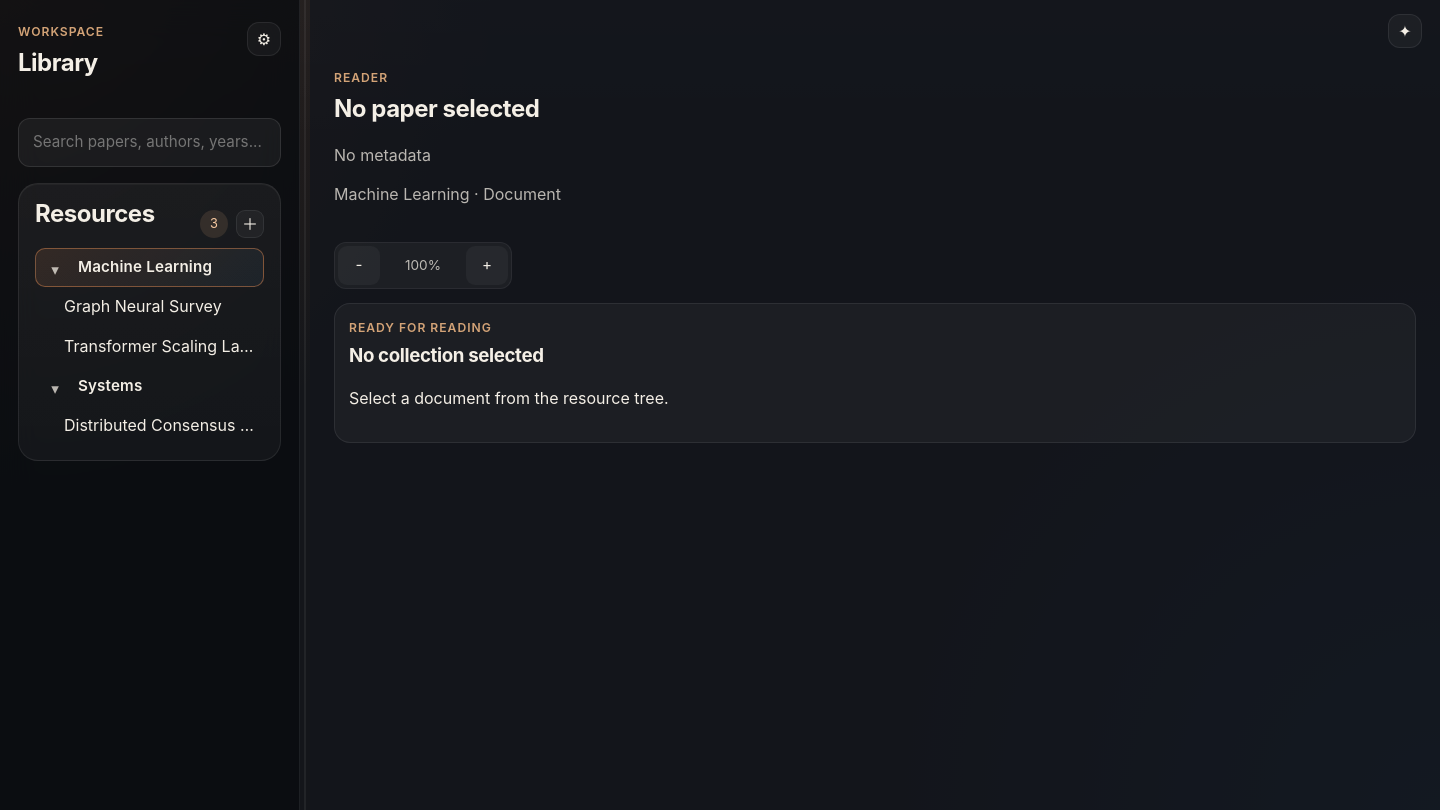
Test: App reading workspace › creates and renames collections inline in the tree from root actions and the context menu
Click the button named "New folder". click: point(250, 224)
box: [236,210,264,238]
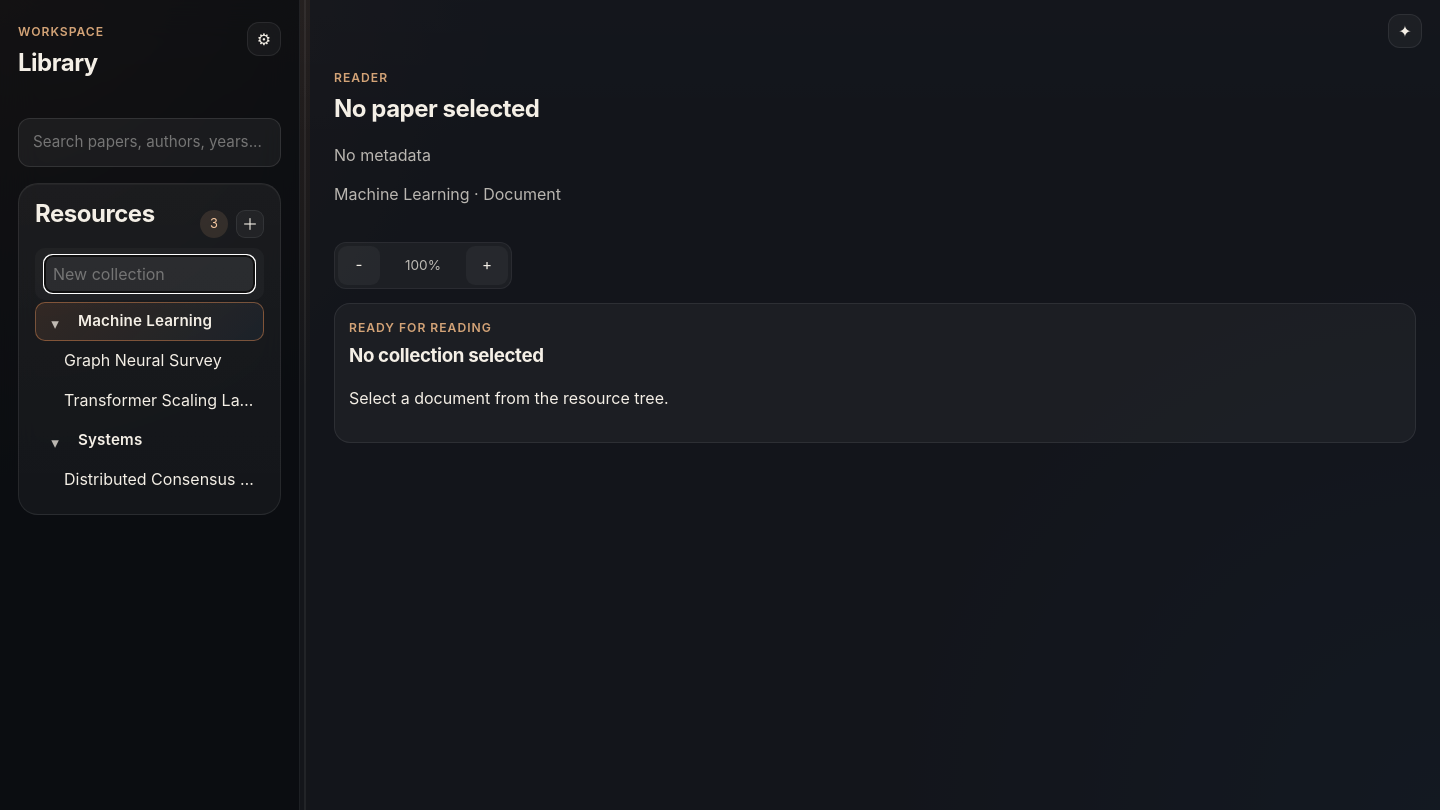
Type "Fresh Notes" into the field named "New collection name". click: point(150, 274)
box: [44,255,255,293]
Then press Enter
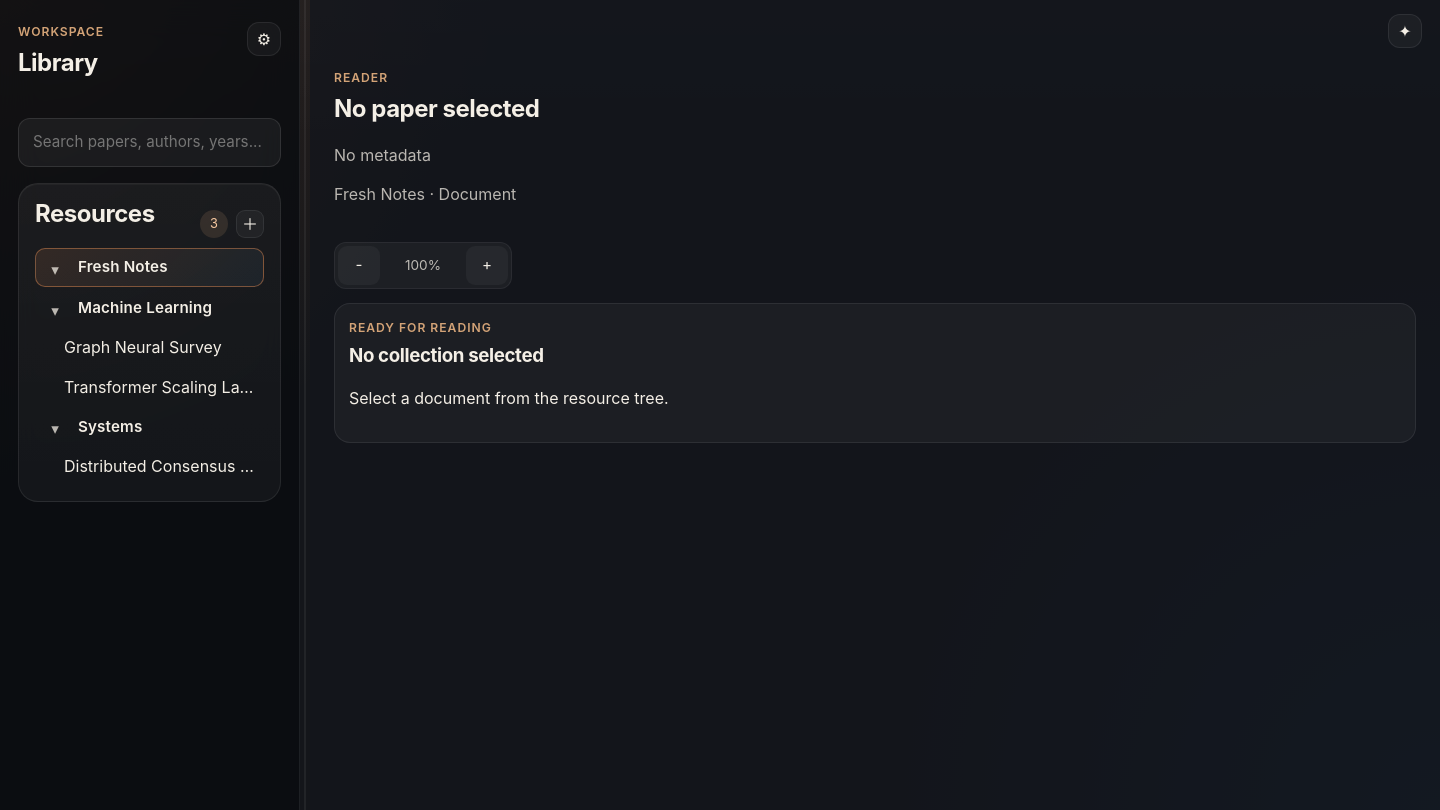
Now the list item "▾ Fresh Notes" is shown, box [35,248,264,287]
Right-click the list item "Machine Learning" at point(150, 309), box [35,289,264,328]
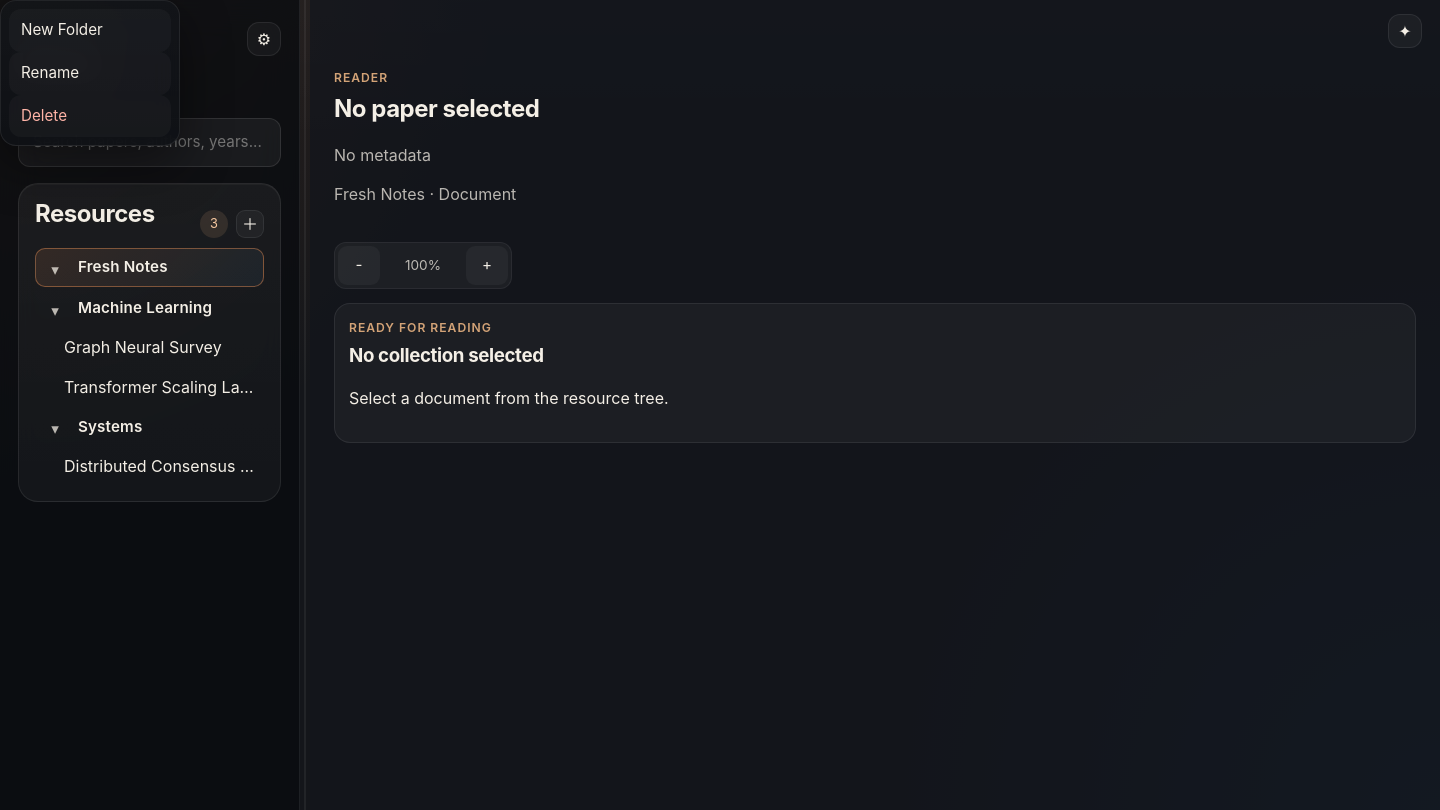
Click the menu item "Rename". click: point(90, 73)
box: [9,52,171,95]
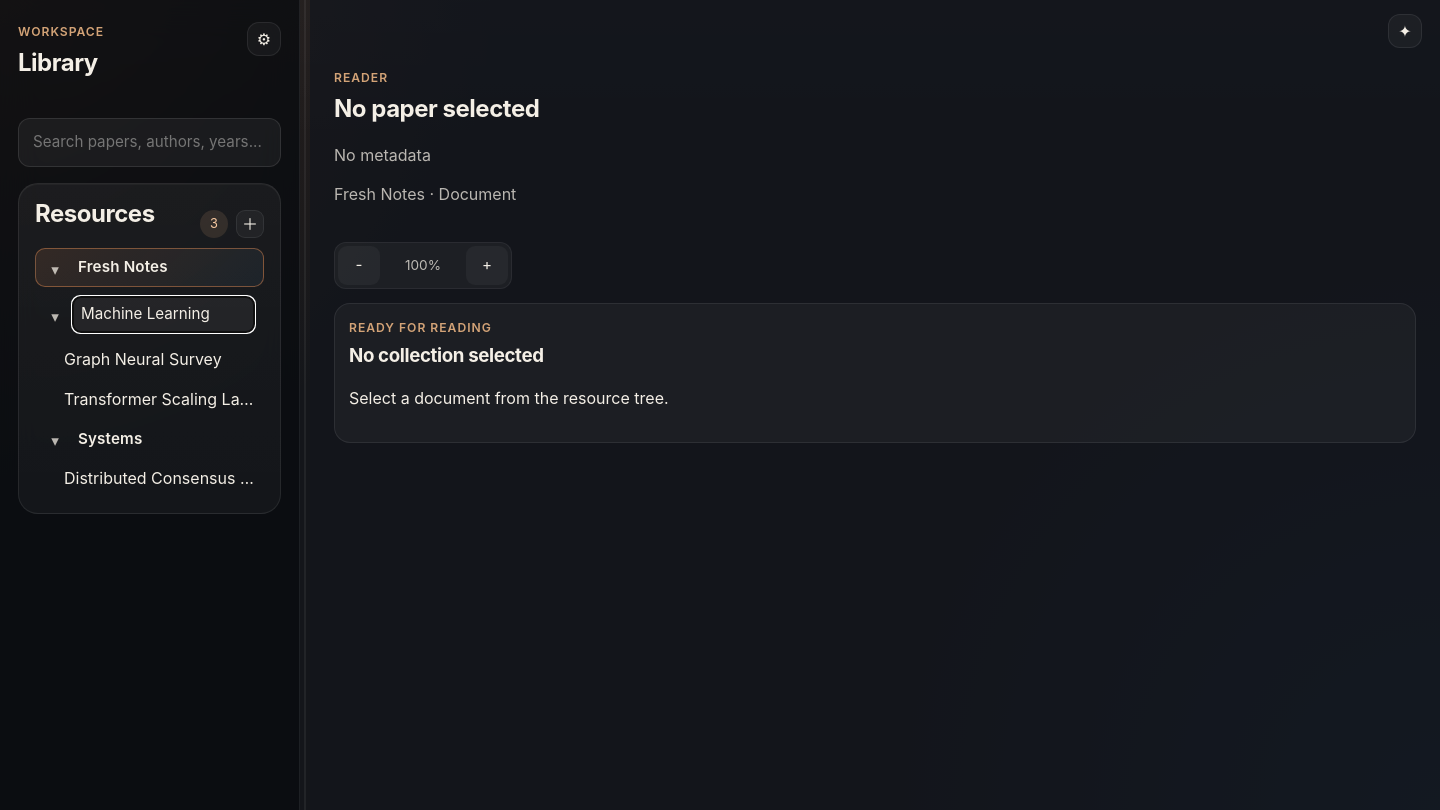
Replace the text in the field named "Rename collection" with "ML Library". click: point(164, 315)
box: [72,296,255,333]
Then press Enter
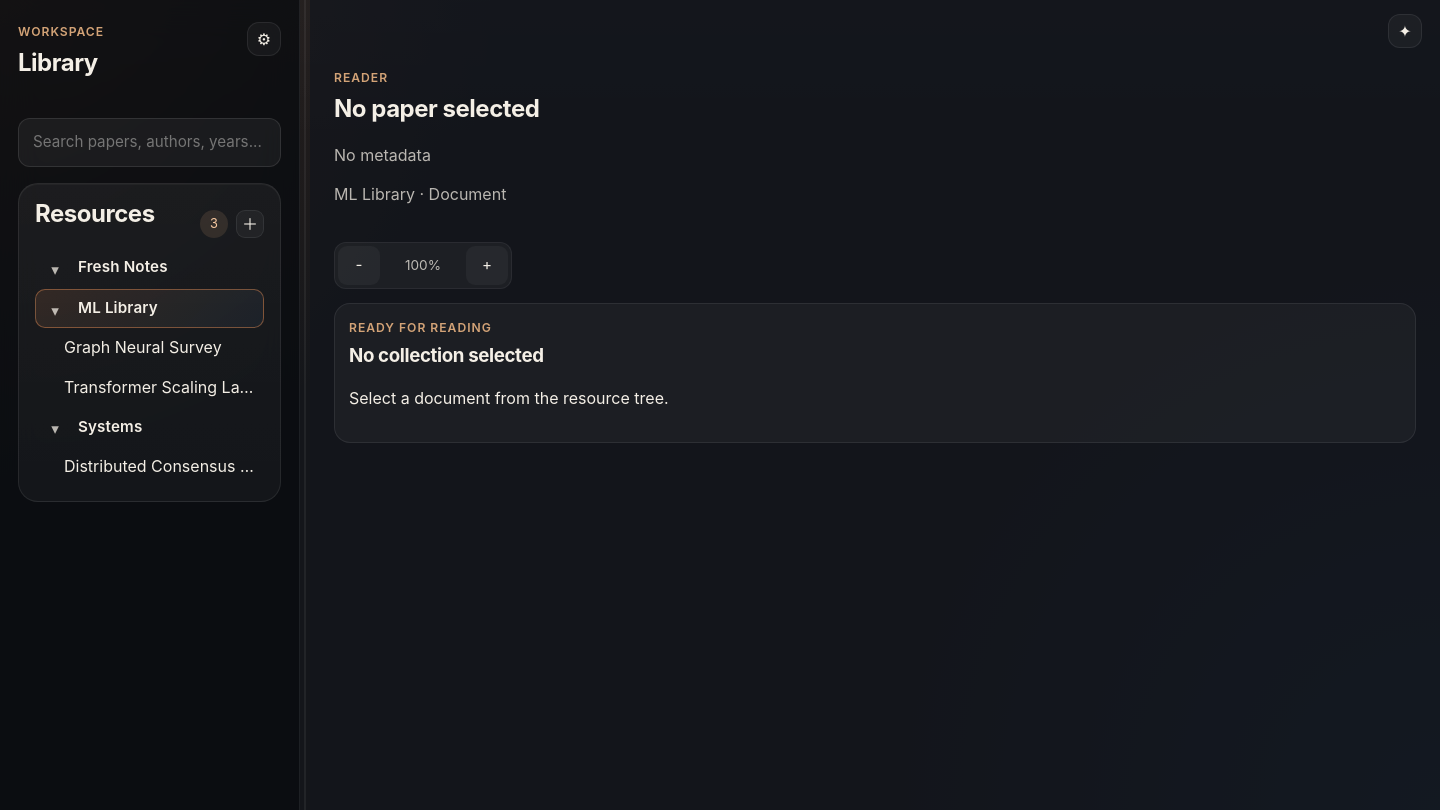
Now the list item "▾ ML Library" is shown, box [35,289,264,328]
